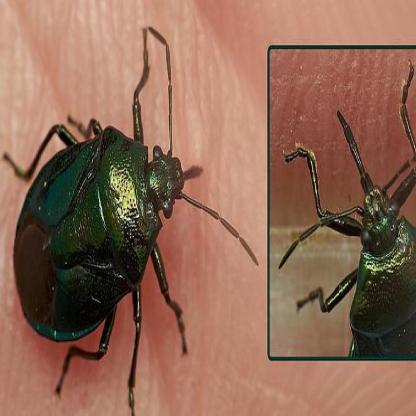beetle: (2, 33, 231, 411), (270, 59, 416, 368)
